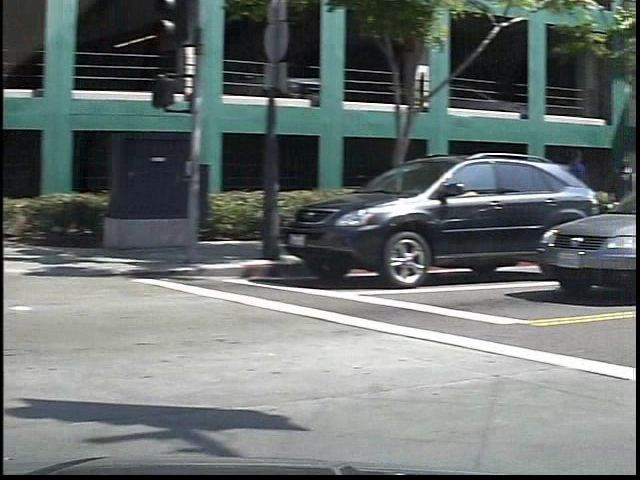person: (580, 146, 607, 176)
